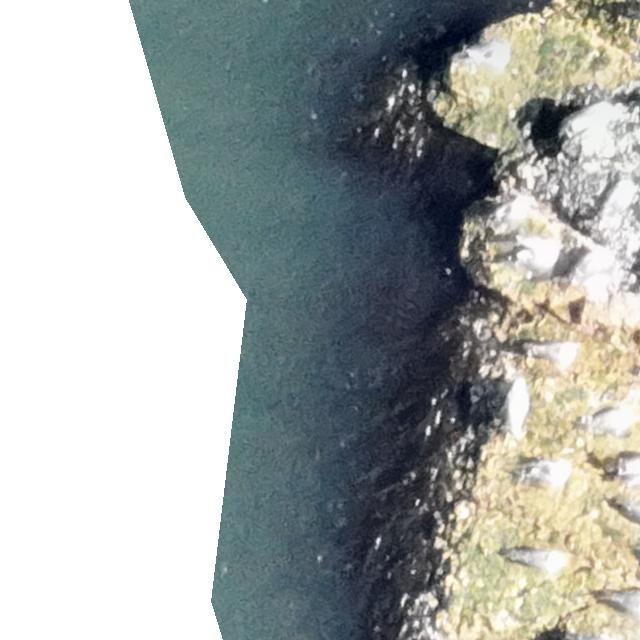umineko: (508, 548, 566, 571), (570, 253, 615, 281), (582, 410, 630, 434), (507, 379, 529, 430), (532, 338, 575, 364), (471, 42, 509, 70), (600, 590, 640, 614), (526, 462, 570, 481)
